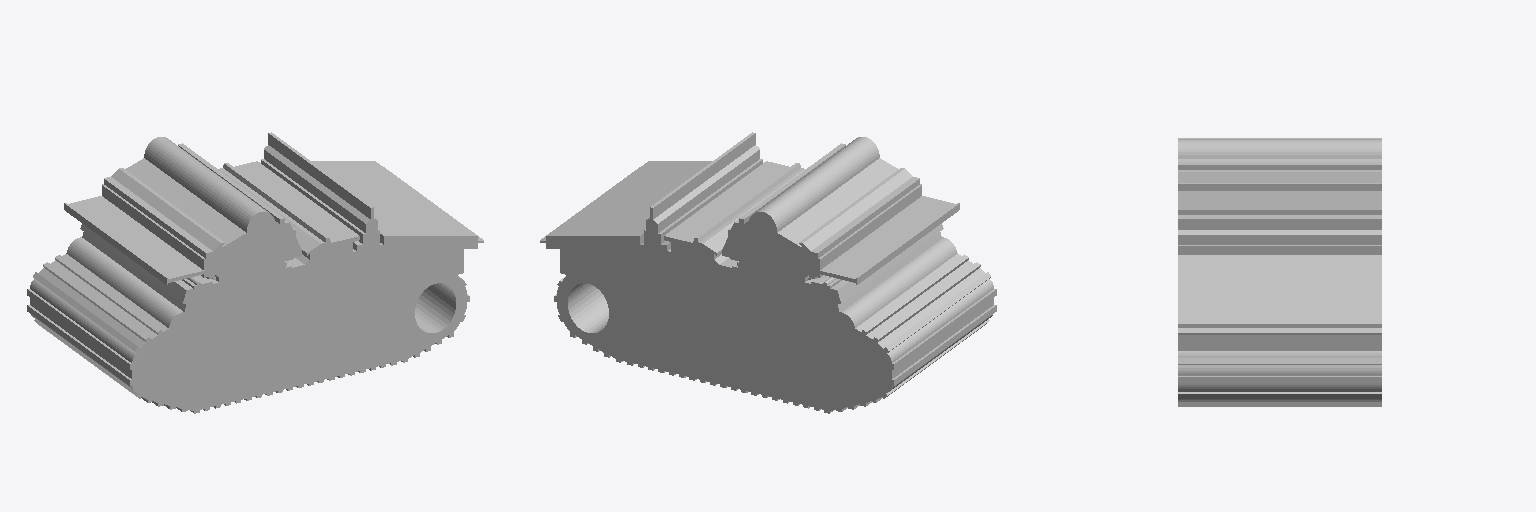
Rendered from char-b1-bis.obj.
The picture shows the model from 3 angles: view 1: azimuth 30°, elevation 25°; view 2: azimuth 150°, elevation 25°; view 3: azimuth 270°, elevation 25°; orthographic projection.
Parts seen in each view (by area): view 1: char-b1-bis_Default_OBJ; view 2: char-b1-bis_Default_OBJ; view 3: char-b1-bis_Default_OBJ.
Boxes of the visible parts, <box> form: char-b1-bis_Default_OBJ: <box>27,132,483,413</box>; char-b1-bis_Default_OBJ: <box>540,132,996,413</box>; char-b1-bis_Default_OBJ: <box>1178,138,1381,406</box>.
Bounding box in the file's own units: 2 × 1 × 1.